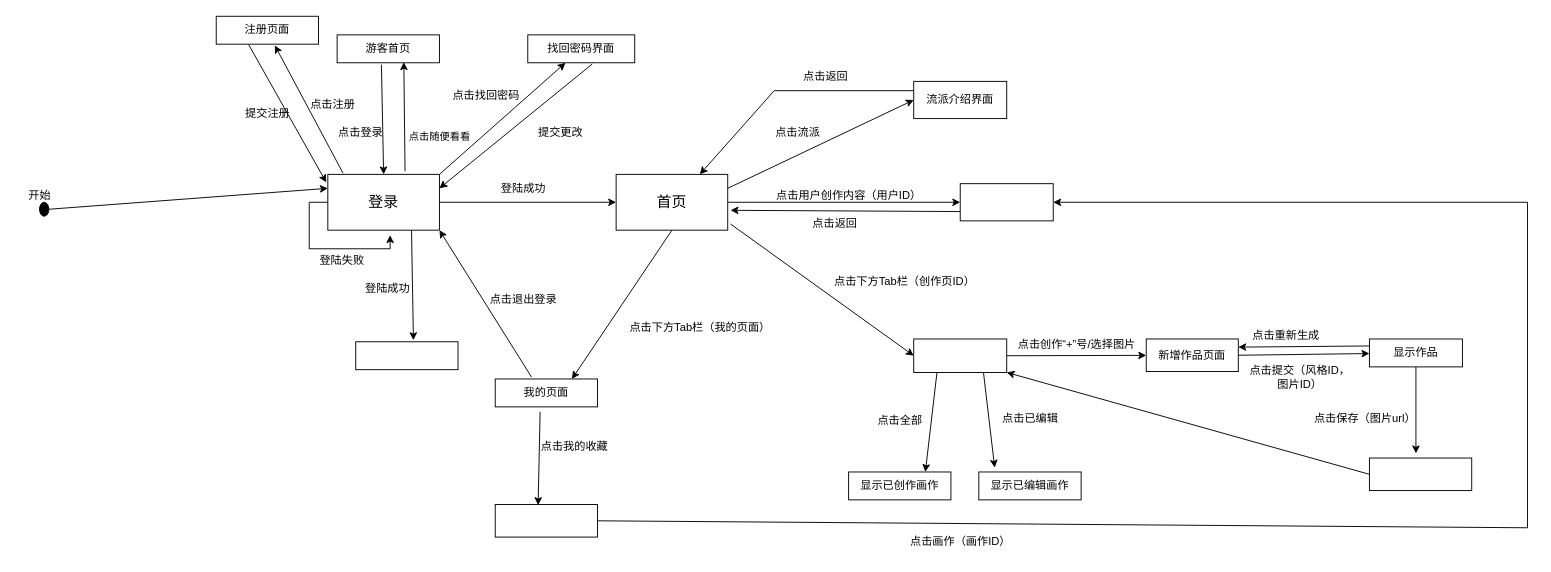
Image size: 1551x572. Some labels were removed from this diagram. The shapes that lost their labels are listed below. From the top down, each one's centre as x and y in pixels, then its label:
At (1006,202): "作品页面".
At (406,355): "管理员主页面".
At (960,355): "创作页面".
At (1420,474): "提示保存成功".
At (546,520): "收藏界面".
